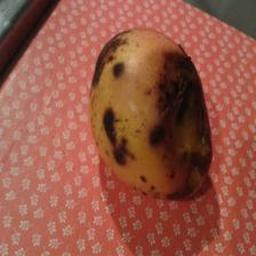Mango Rotten: (76, 5, 223, 208)
